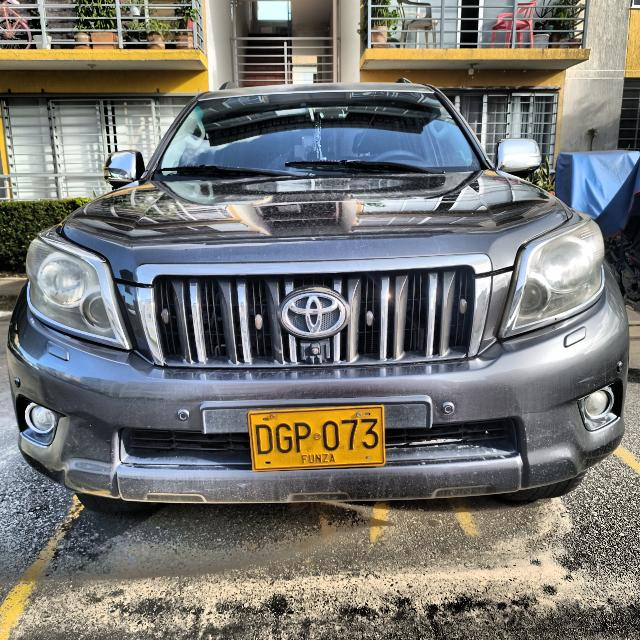plate: (249, 407, 384, 470)
